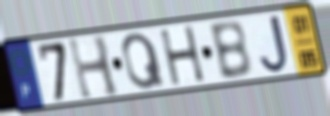7: (36, 40, 69, 104)
B: (206, 18, 254, 82)
H: (65, 33, 122, 103), (157, 23, 208, 88)
J: (257, 13, 291, 76)
Q: (120, 30, 167, 92)
